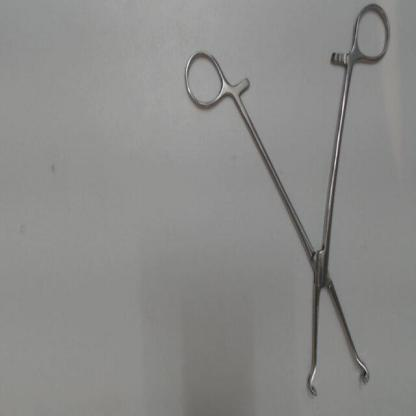8 Babcock Tissue Forceps: (175, 0, 398, 405)
